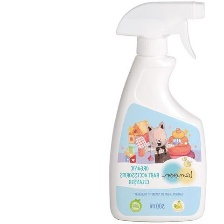cleaning_solution: (107, 0, 209, 224)
